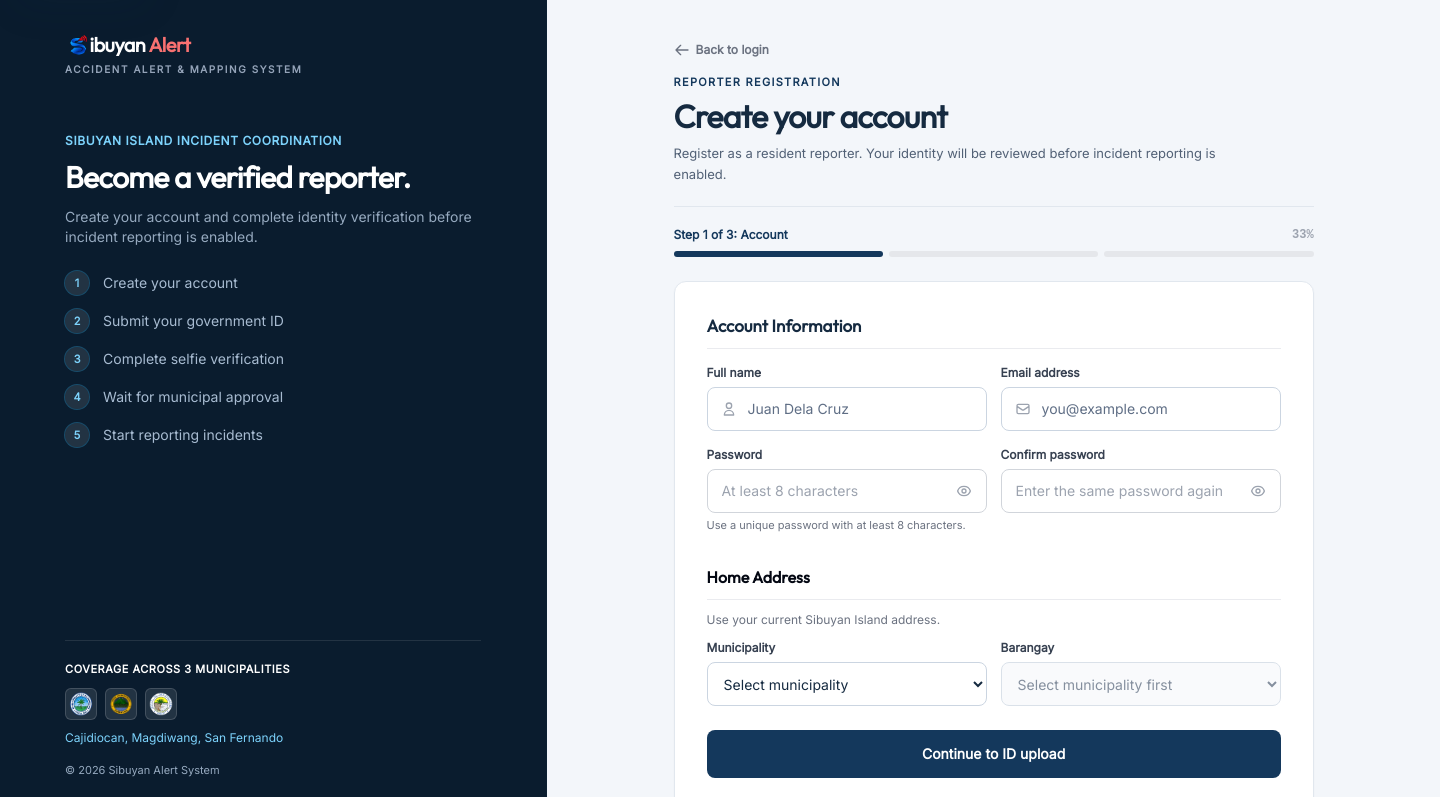
Scenario: RegisterPage location reference and responsive form › blocks progression and exposes accessible validation feedback
The width and height of the screenshot is (1440, 797).
Expected: the dropdown labelled "Municipality" is shown, [707,662,987,706]
Click the button "Continue to ID upload" at {"x": 994, "y": 754}, box [707,730,1281,778]
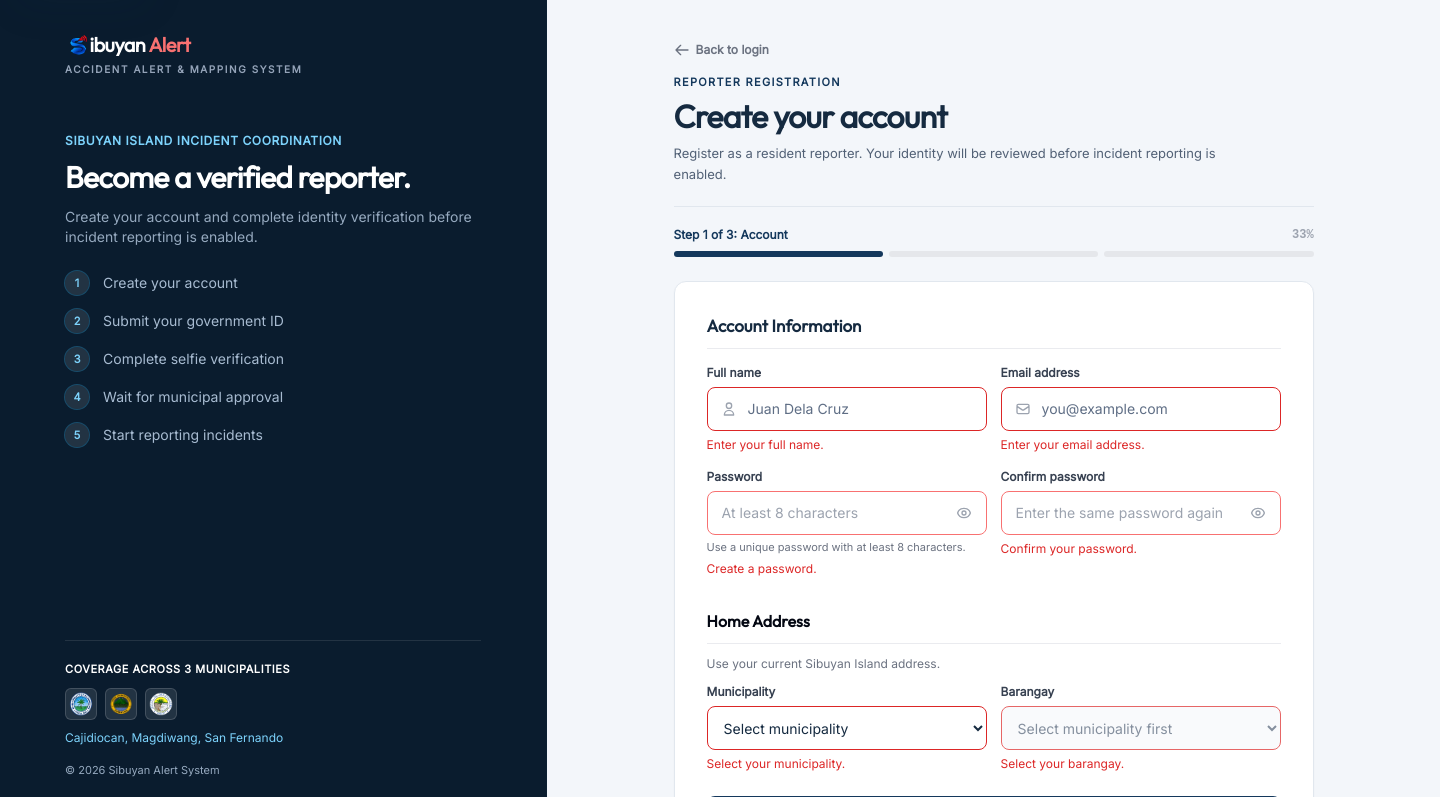
Expected: the heading "Account Information" is shown, [707,315,861,336]
Now the number of messages is 6, box [707,437,824,452]; [1001,437,1145,452]; [707,561,817,576]; [1001,541,1137,556]; [707,756,845,771]; [1001,756,1124,771]
Now the text "Enter your full name." is shown, box [707,437,824,452]
